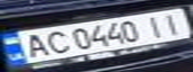0: (118, 17, 145, 43), (69, 25, 93, 51)
4: (103, 19, 127, 46), (87, 21, 109, 48)
A: (15, 30, 54, 60)
C: (39, 28, 72, 55)
I: (154, 10, 190, 35), (139, 12, 172, 38)
